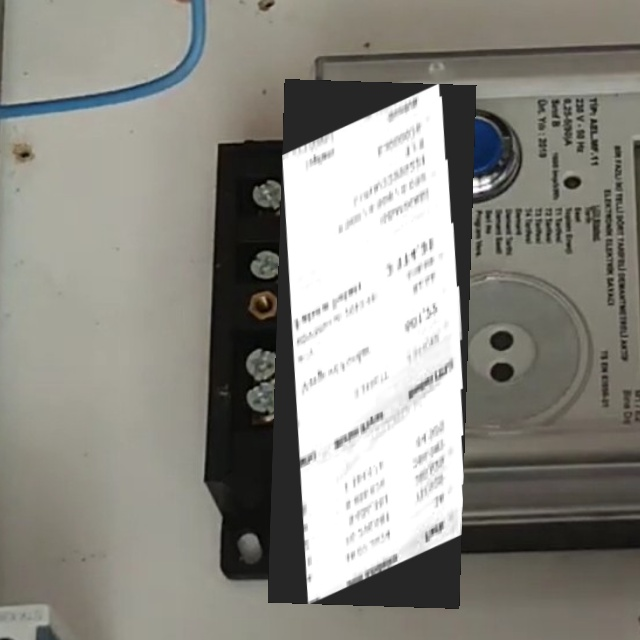electricity-bill: (268, 79, 476, 609)
